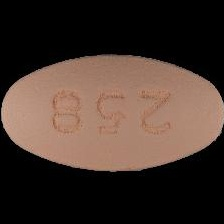10544-271: (0, 0, 224, 224)
